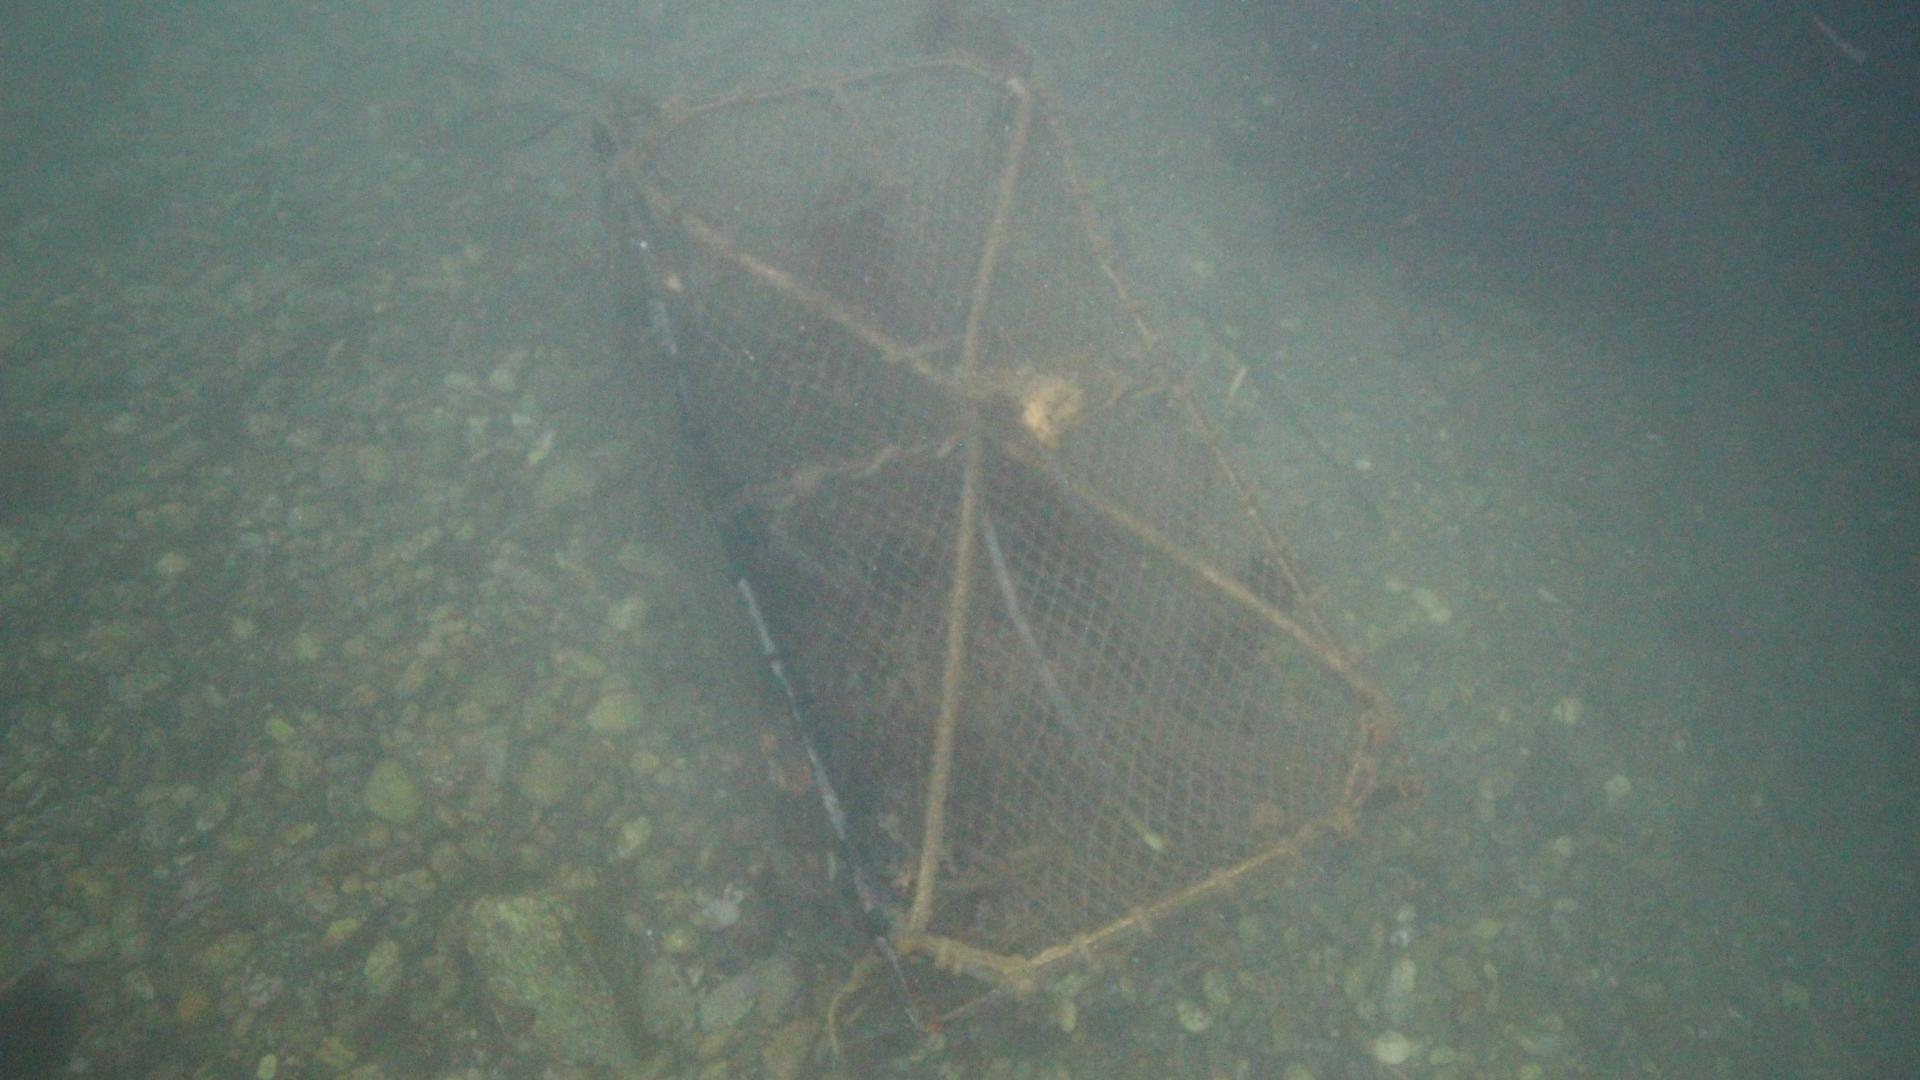rectangular fish trap: (585, 55, 1393, 1029)
